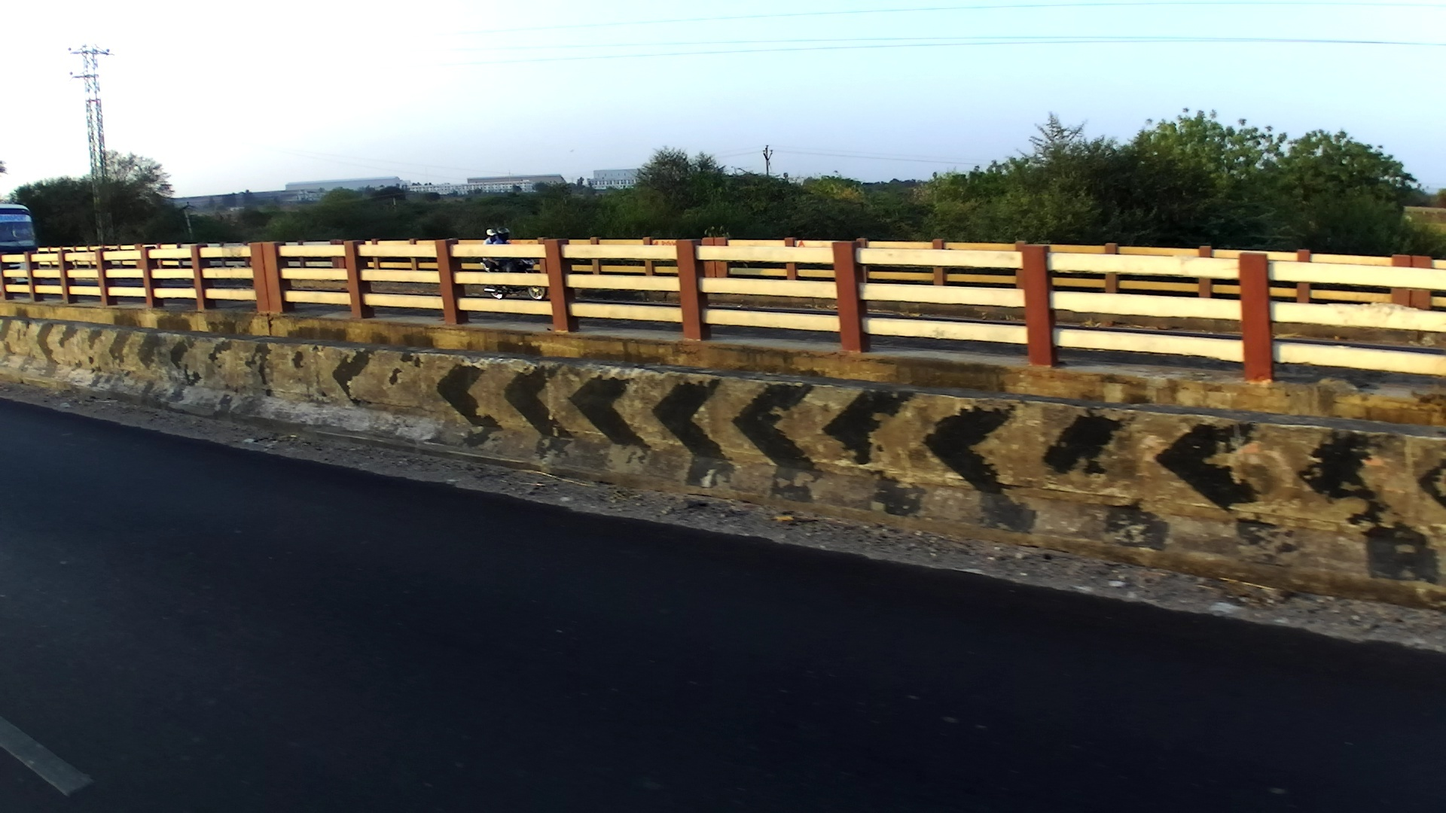rider: (490, 227, 513, 250), (479, 227, 500, 250)
vehicle fallback: (1, 204, 38, 262)
